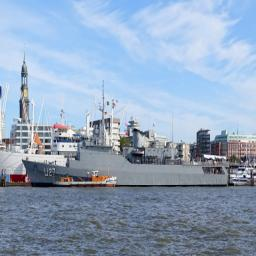Fragata: (22, 81, 232, 189)
